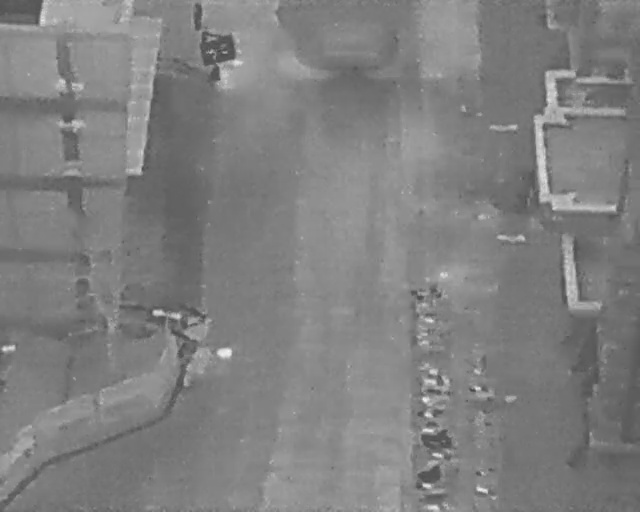Bicycle: (413, 458, 450, 489), (418, 426, 455, 453), (417, 384, 453, 408), (418, 367, 453, 390), (471, 479, 501, 504), (467, 351, 493, 379), (410, 282, 444, 303), (412, 307, 442, 326), (415, 405, 447, 421), (471, 463, 498, 480), (467, 382, 491, 395)
